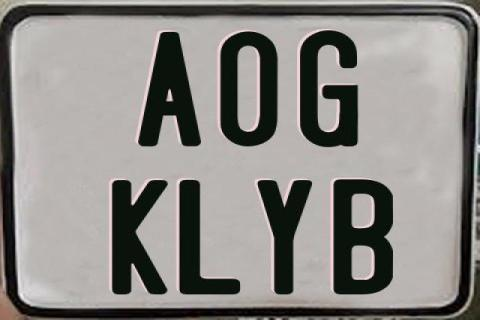0: (217, 30, 275, 148)
A: (136, 29, 201, 145)
B: (334, 179, 399, 297)
G: (299, 30, 357, 148)
K: (111, 180, 168, 298)
L: (179, 179, 243, 295)
Y: (254, 179, 312, 296)
